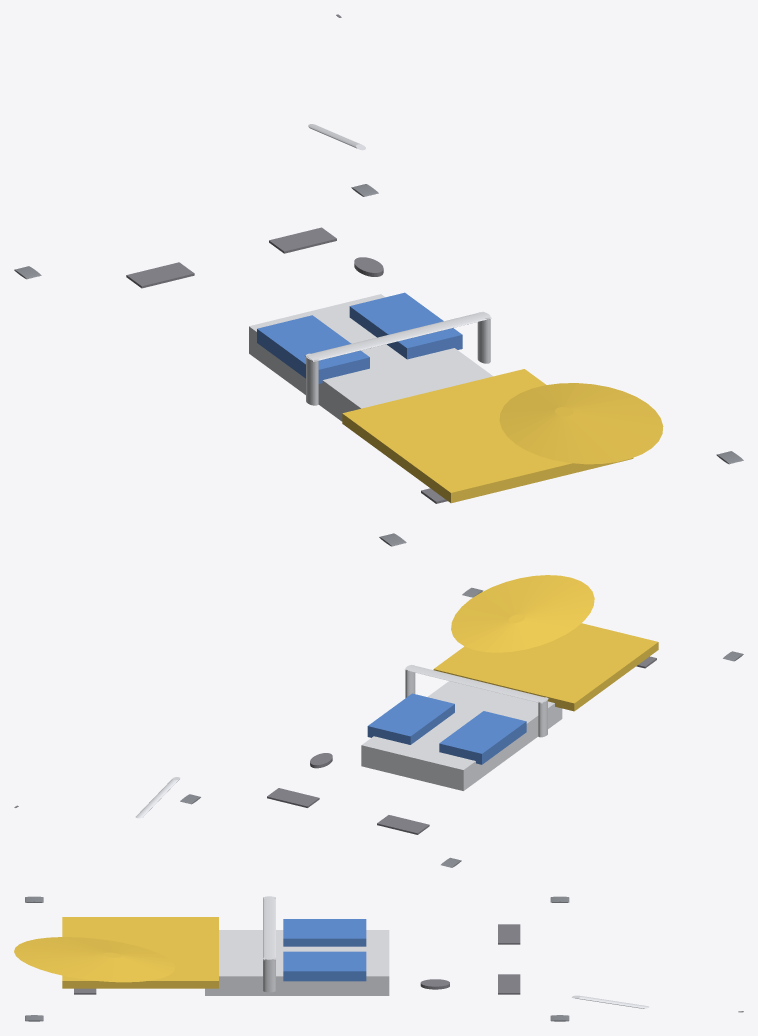
The model's file is apollo_lrv.glb.
3 renders of one model, top to bottom at view 1: azimuth 30°, elevation 25°; view 2: azimuth 150°, elevation 25°; view 3: azimuth 270°, elevation 25°, orthographic. The views are drawn at different scales.
Visible parts, largest first — view 1: Avionics_GoldBay, HighGain_Dish, Chassis, Seat_Commander, Seat_Pilot, Rollbar_Cross, Suspension_FL, Suspension_FR; view 2: Avionics_GoldBay, Chassis, HighGain_Dish, Seat_Commander, Seat_Pilot, Rollbar_Cross, Suspension_FL, Suspension_FR; view 3: Avionics_GoldBay, Chassis, HighGain_Dish, Seat_Pilot, Seat_Commander, Rollbar_Cross, Suspension_FL, Suspension_FR, Rollbar_Right, RoboticArm_Boom, RoboticArm_Base.
Boxes of the visible parts, x1,y1,x2,y2 form: Avionics_GoldBay: [342, 369, 633, 503]; HighGain_Dish: [499, 383, 663, 464]; Chassis: [249, 294, 493, 421]; Seat_Commander: [257, 315, 369, 383]; Seat_Pilot: [349, 292, 462, 359]; Rollbar_Cross: [304, 312, 491, 361]; Suspension_FL: [126, 262, 194, 288]; Suspension_FR: [269, 227, 336, 253]; Avionics_GoldBay: [433, 623, 658, 711]; Chassis: [361, 681, 562, 790]; HighGain_Dish: [451, 575, 594, 652]; Seat_Commander: [439, 711, 526, 764]; Seat_Pilot: [367, 693, 454, 744]; Rollbar_Cross: [404, 665, 548, 703]; Suspension_FL: [377, 815, 429, 834]; Suspension_FR: [267, 788, 319, 807]; Avionics_GoldBay: [62, 917, 218, 988]; Chassis: [205, 930, 389, 995]; HighGain_Dish: [14, 937, 175, 982]; Seat_Pilot: [283, 951, 366, 981]; Seat_Commander: [283, 919, 366, 946]; Rollbar_Cross: [263, 896, 275, 960]; Suspension_FL: [498, 924, 520, 944]; Suspension_FR: [498, 974, 520, 994]; Rollbar_Right: [263, 957, 275, 992]; RoboticArm_Boom: [571, 995, 649, 1008]; RoboticArm_Base: [420, 979, 449, 989].
Size of what is drawn, in the model's own units: 5.12 by 0.8493 by 10.1.
